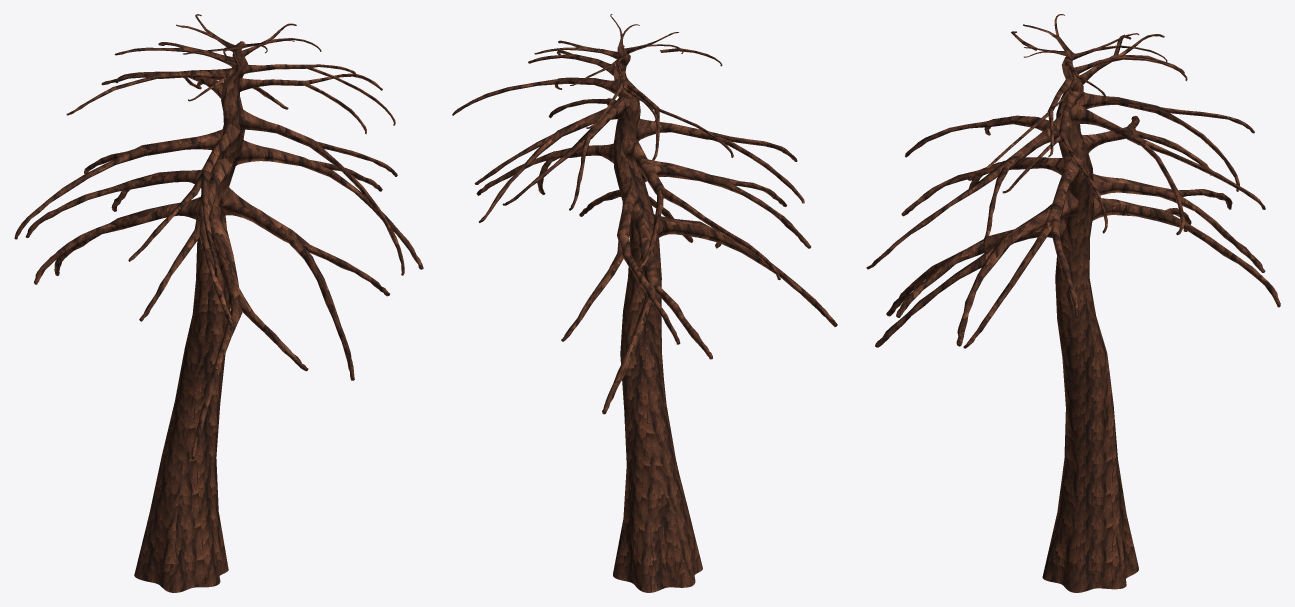
The model's file is dtree_dead_4.glb.
3 views of the same model, side by side, from view 1: azimuth 30°, elevation 25°; view 2: azimuth 150°, elevation 25°; view 3: azimuth 270°, elevation 25° (orthographic). The views are drawn at different scales.
Visible parts, largest first — view 1: model; view 2: model; view 3: model.
Part boxes in pixels (x1,y1,x2,y2): model: (14, 14, 423, 592); model: (452, 14, 837, 592); model: (866, 14, 1280, 592).
Bounding box in the file's own units: 4.73 × 6.84 × 4.61.
Materials: 1 (1 with a texture image).
